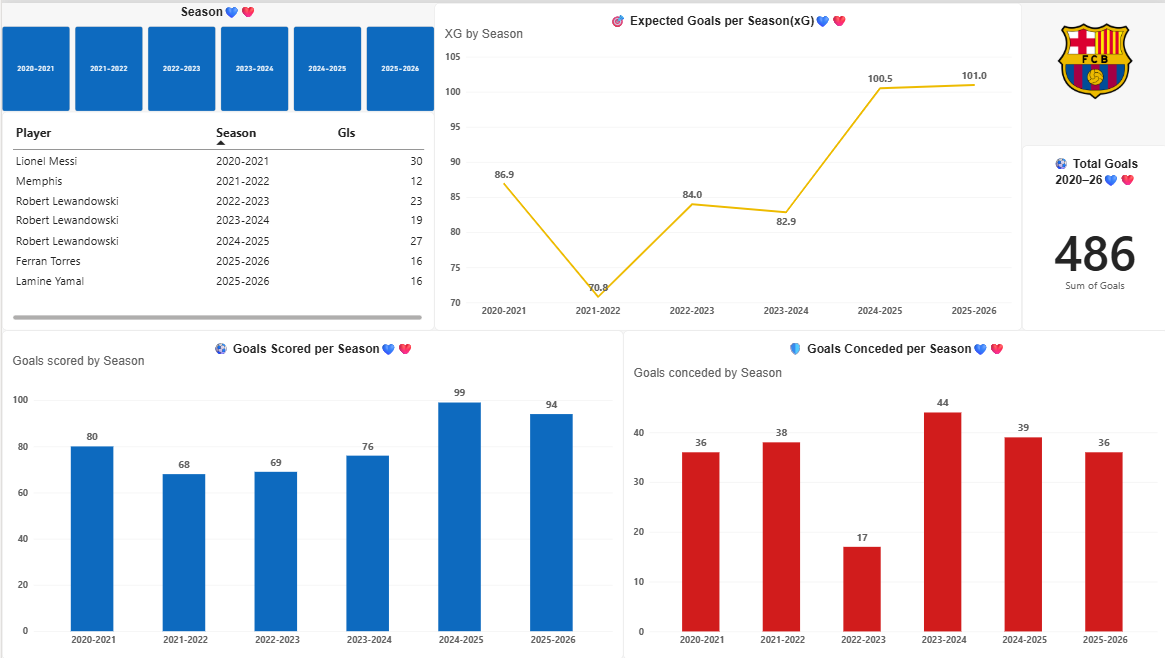

The dashboard page shown, as its layout file describes it:
{"tool":"powerbi","page":{"name":"Page 1","canvas":[1920,1080],"ordinal":0},"visuals":[{"type":"clusteredColumnChart","title":"⚽ Goals Scored per Season💙❤️","fields":{"Category":["Seasons.Season"],"Y":["Sum(XG combined.Goals)"]},"box":[0,539.3,1023,541.3],"z":0},{"type":"lineChart","title":"🎯 Expected Goals per Season(xG)💙❤️","fields":{"Category":["Seasons.Season"],"Y":["Sum(XG combined.XG)"]},"box":[712.2,0,967.4,539.3],"z":1000},{"type":"card","title":"⚽ Total Goals 2020–26💙❤️","fields":{"Values":["Sum(XG combined.Goals)"]},"box":[1679.6,234.6,240.8,304.6],"z":2000},{"type":"clusteredColumnChart","title":"🛡️ Goals Conceded per Season💙❤️","fields":{"Category":["Opponent Totals.Season"],"Y":["Sum(Opponent Totals.Gls)"]},"box":[1023,539.3,897.4,541.3],"z":3000},{"type":"advancedSlicerVisual","title":"Season💙❤️","fields":{"Values":["Seasons.Season"]},"box":[0,0,712.2,179.1],"z":4000},{"type":"image","box":[1714.6,30.9,170.8,129.7],"z":5000},{"type":"tableEx","fields":{"Values":["Player Goals.Player","Player Goals.Season","Player Goals.Gls"]},"box":[0,179.1,712.2,360.2],"z":6000}]}

Visuals, with their boxes in screenshot pixels (x1, y1, x2, y2), scaled from the page's 1920x1080 canvas onto the 1165x658 screenshot:
"⚽ Goals Scored per Season💙❤️" clusteredColumnChart: locate(0, 329, 621, 657)
"🎯 Expected Goals per Season(xG)💙❤️" lineChart: locate(432, 0, 1019, 329)
"⚽ Total Goals 2020–26💙❤️" card: locate(1019, 143, 1164, 329)
"🛡️ Goals Conceded per Season💙❤️" clusteredColumnChart: locate(621, 329, 1164, 657)
"Season💙❤️" advancedSlicerVisual: locate(0, 0, 432, 109)
image: locate(1040, 19, 1144, 98)
tableEx - Player Goals.Player x Player Goals.Season: locate(0, 109, 432, 329)
